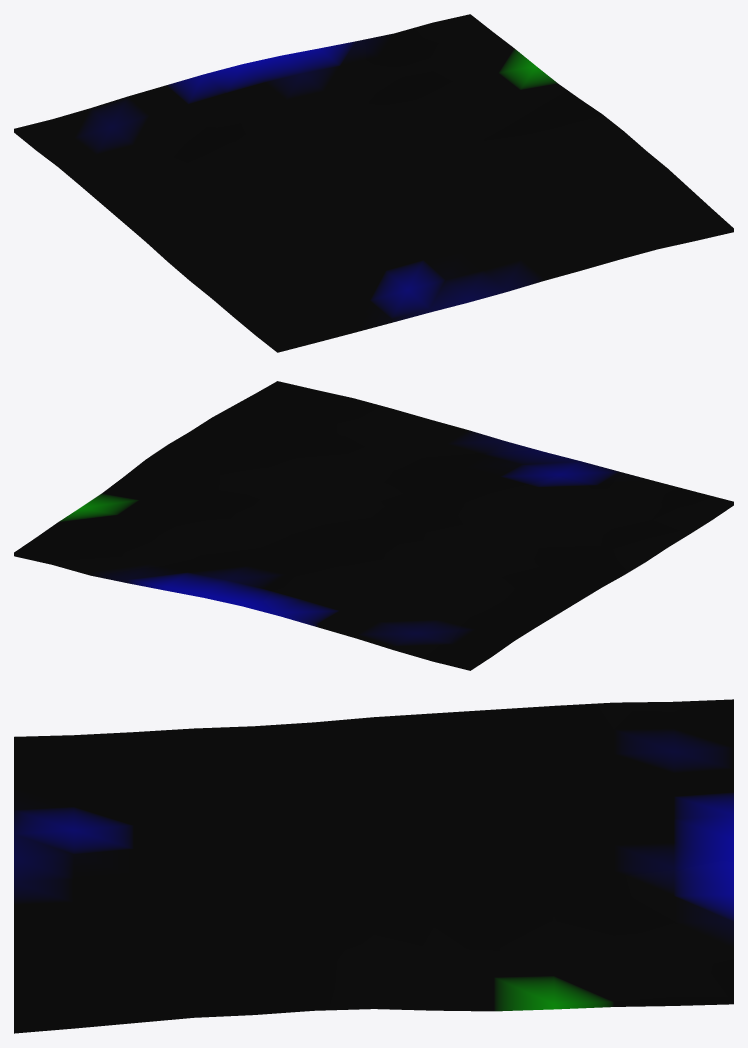
The model's file is coast_18_6.glb.
3 views of the same model, one above another, from view 1: azimuth 30°, elevation 25°; view 2: azimuth 150°, elevation 25°; view 3: azimuth 270°, elevation 25° (orthographic). The views are drawn at different scales.
Visible parts, largest first — view 1: terrain; view 2: terrain; view 3: terrain.
Part boxes in pixels (box(x1,y1,x2,y2)): terrain: box(14, 14, 733, 352); terrain: box(14, 381, 733, 670); terrain: box(14, 699, 733, 1033).
Size of the model in its own units: 192 by 16.07 by 192.
